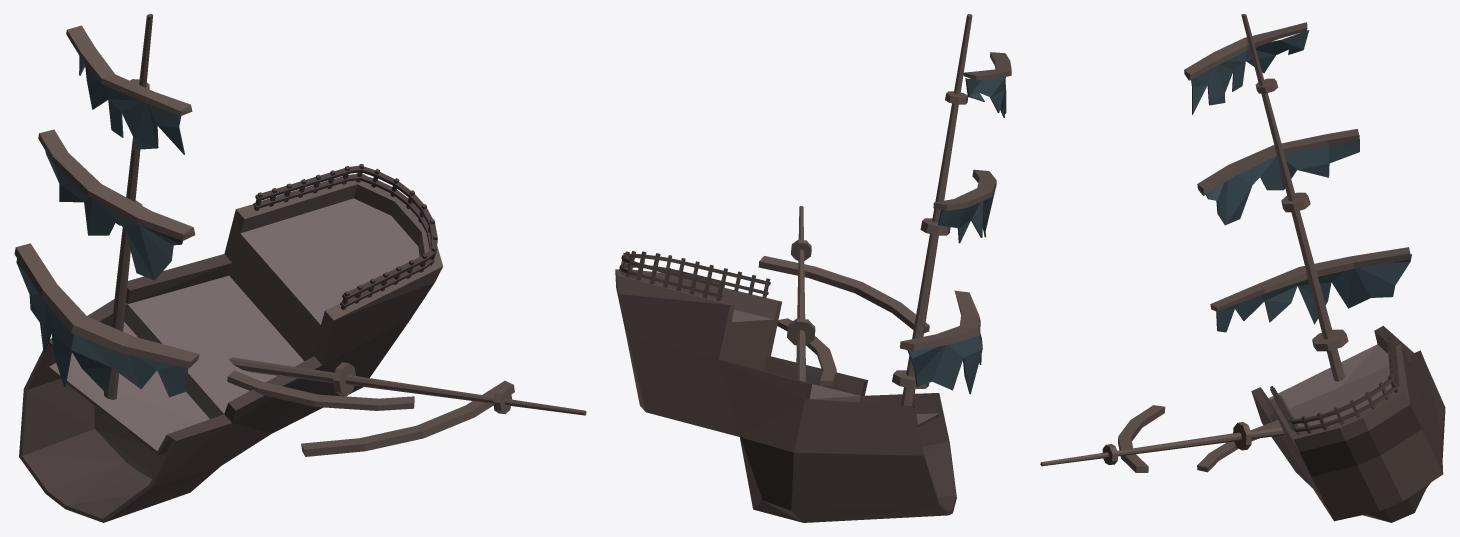
Rendered from Ship_014.fbx.
The picture shows the model from 3 angles, left to right: view 1: azimuth 30°, elevation 25°; view 2: azimuth 150°, elevation 25°; view 3: azimuth 270°, elevation 25°; orthographic projection. The views are drawn at different scales.
Parts seen in each view (by area): view 1: Ship_014; view 2: Ship_014; view 3: Ship_014.
Part boxes in pixels (box(x1,y1,x2,y2)): Ship_014: box(14, 14, 586, 522); Ship_014: box(615, 14, 1011, 522); Ship_014: box(1040, 14, 1445, 522).
Size of the model in its own units: 921 by 1002 by 1242.
Materials: 1 (1 with a texture image).
